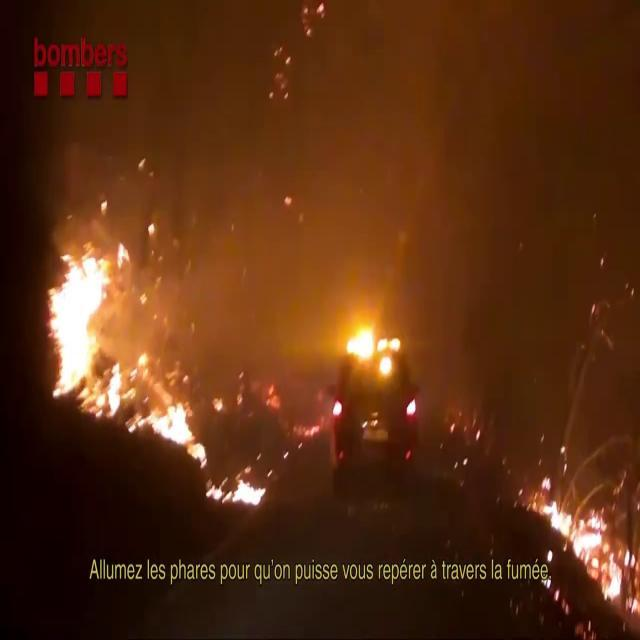Fire: (44, 238, 128, 408), (546, 481, 640, 616), (142, 388, 204, 456), (224, 469, 268, 511)
Smoke: (110, 1, 638, 380)
